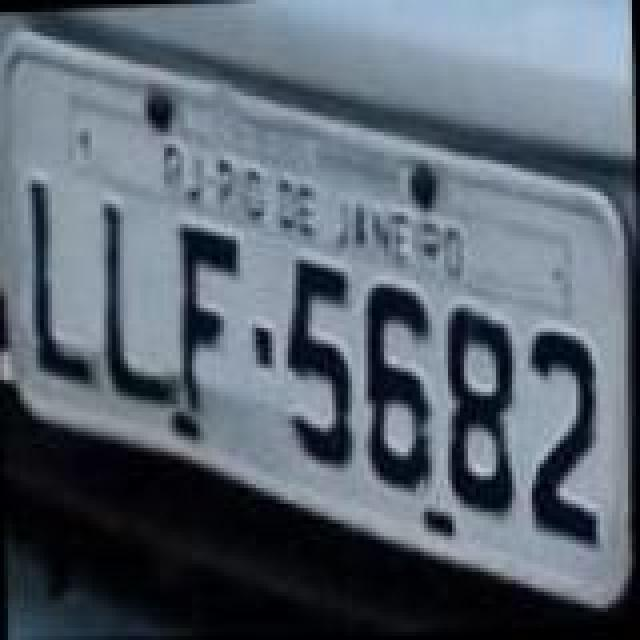2: (520, 328, 604, 556)
5: (280, 254, 360, 474)
6: (358, 282, 434, 498)
8: (440, 300, 524, 516)
F: (174, 214, 246, 414)
L: (98, 196, 178, 412), (26, 174, 94, 386)
